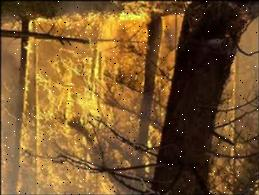fire: (0, 3, 161, 85)
